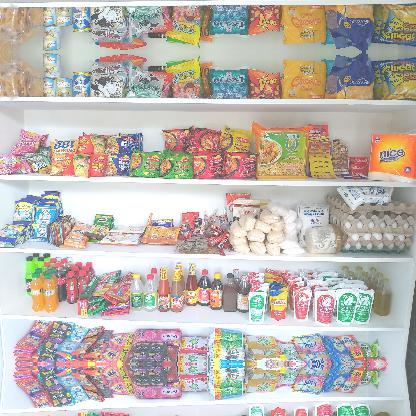Lady-s-Choice: (304, 224, 340, 254)
